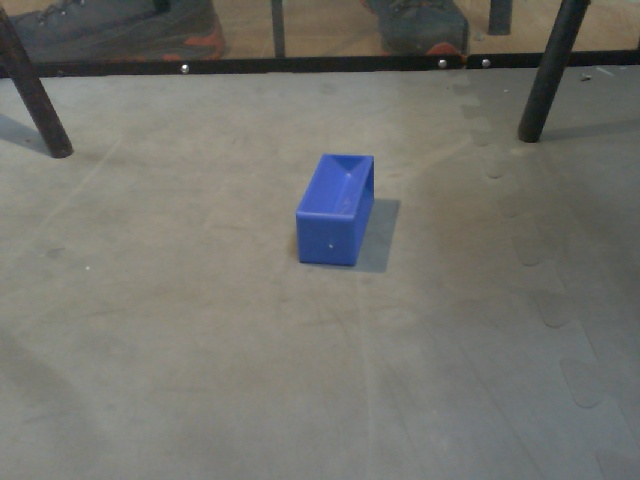BlueSample: (292, 152, 379, 268)
